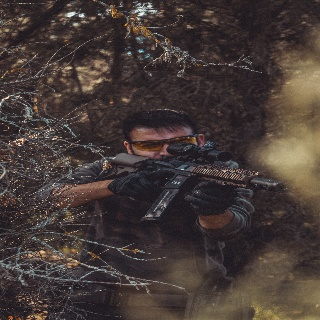rifle: (108, 141, 289, 225)
